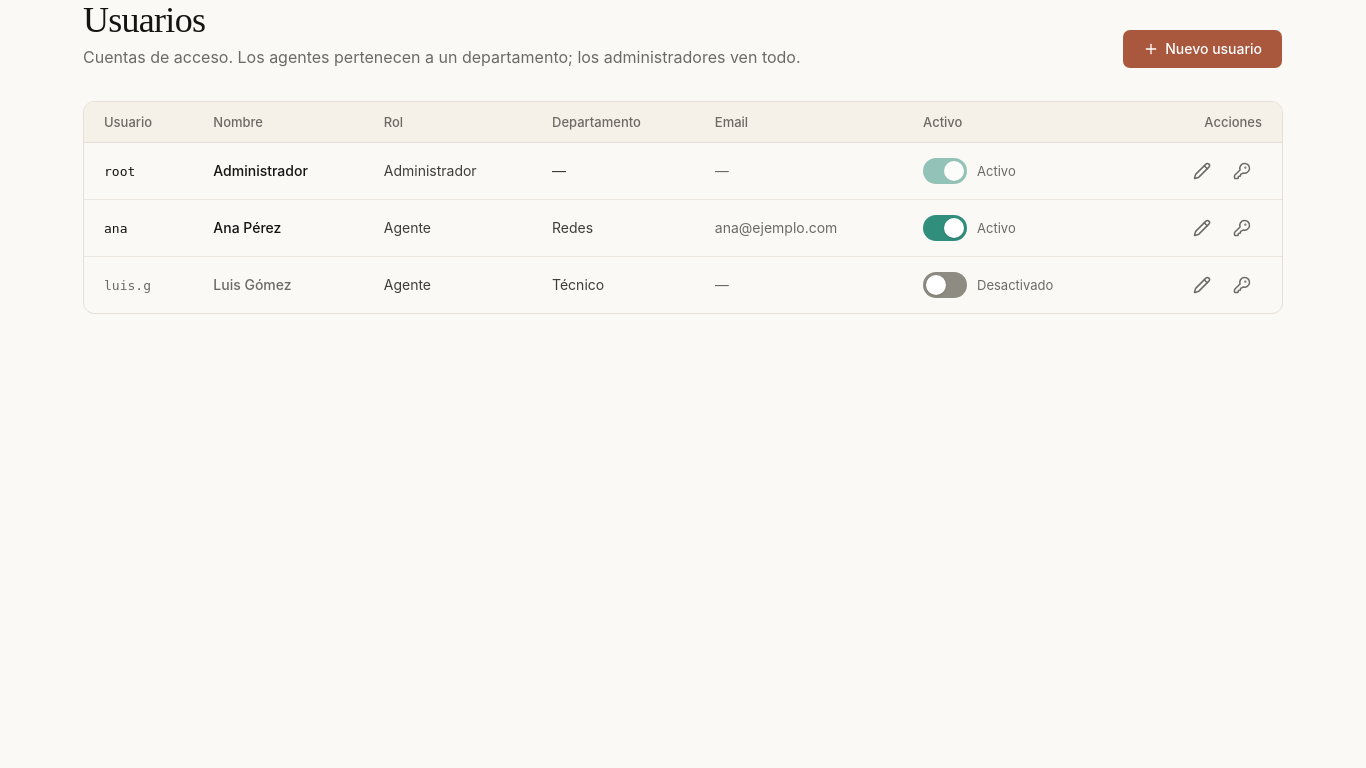
it: UsersAdmin › alta › un email inválido no se envía
The image size is (1366, 768).
Click the button "Nuevo usuario" at [1203, 49], box [1122,29,1283,69]
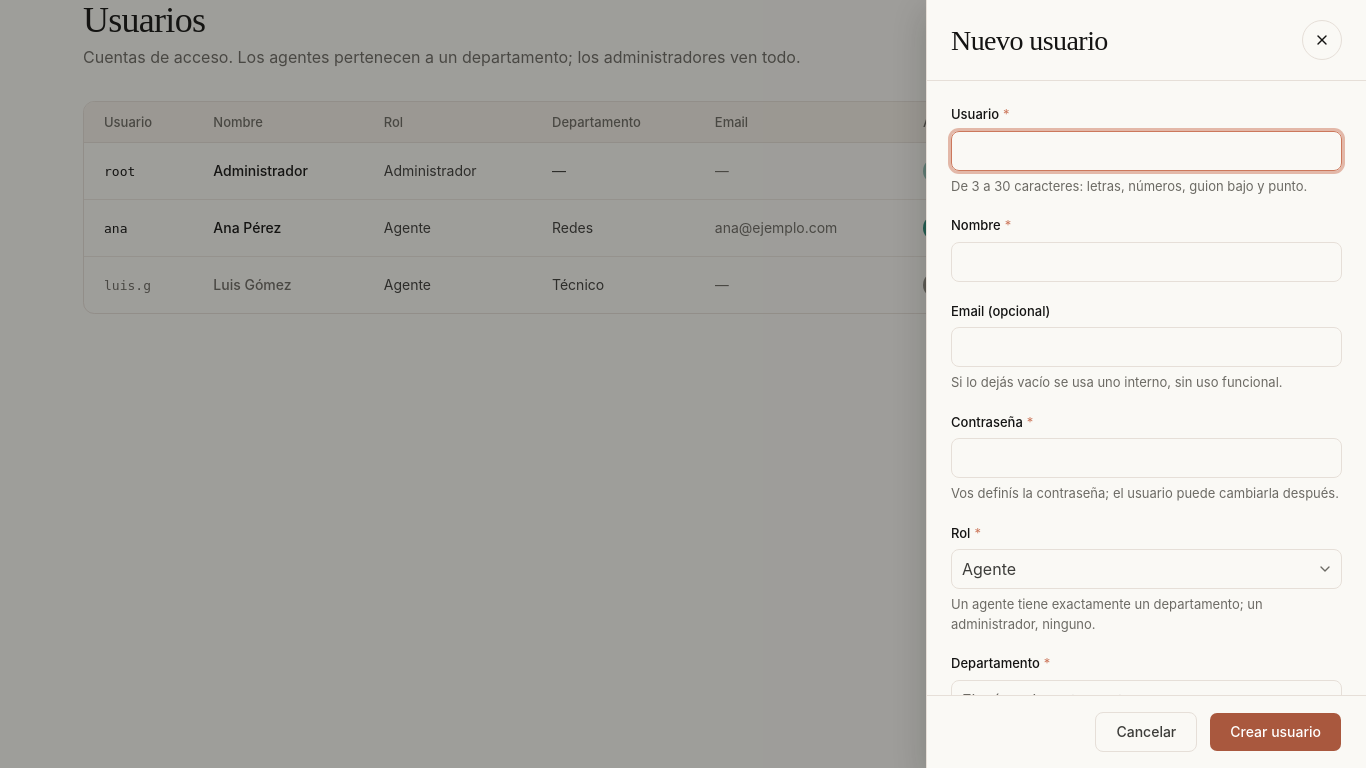
Type "no-es-un-email" into the field labelled "Email (opcional)" at [1146, 347], box [951,327,1342,367]
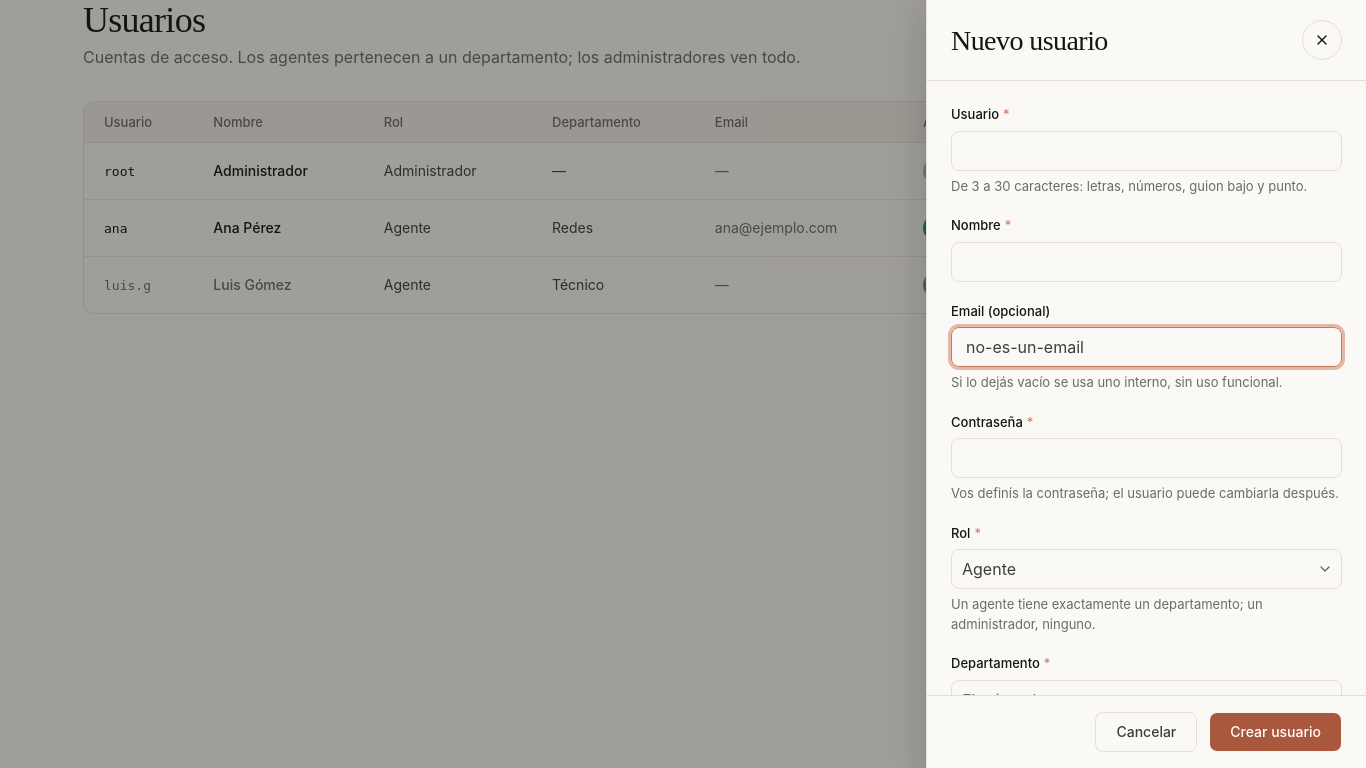
Click the button "Crear usuario" at [1276, 732], box [1209,712,1342,752]
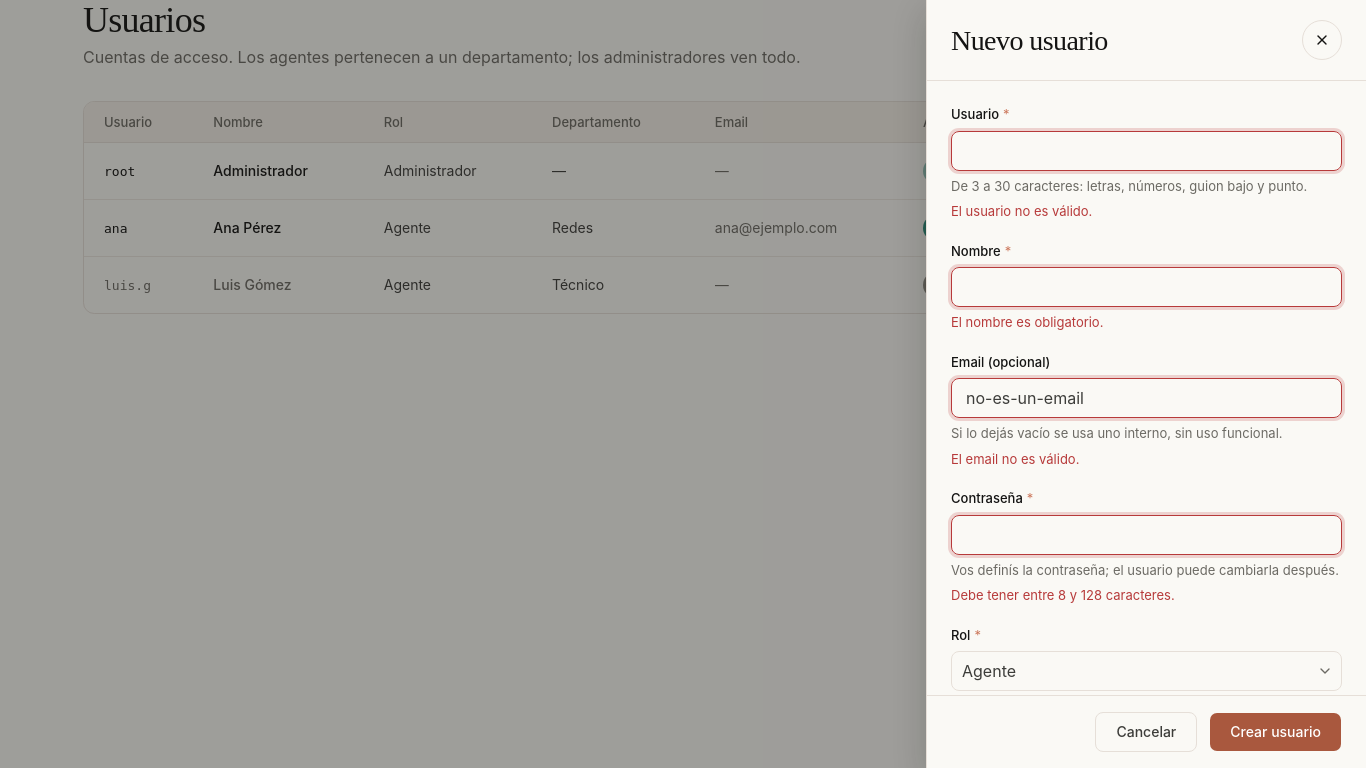
Result: the text "El email no es válido." is shown at [951,450,1079,466]
